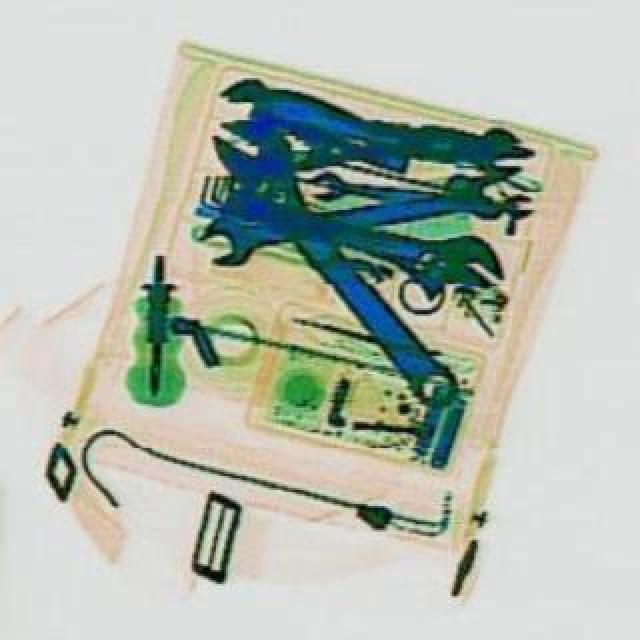scissors: (196, 104, 476, 424), (212, 184, 508, 300), (198, 172, 506, 276)
